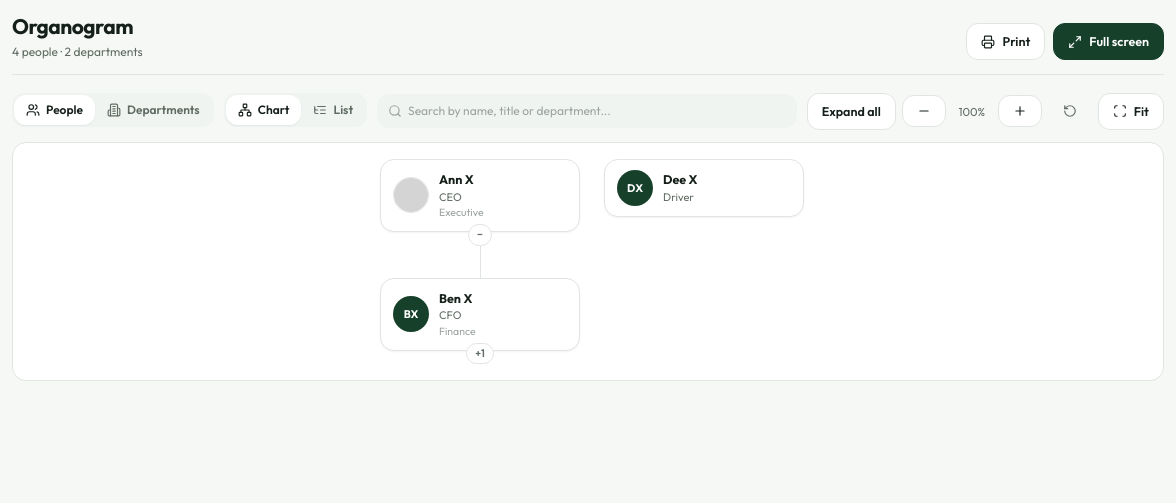
it: Organogram › draws who reports to whom, opening the first levels and leaving out people who have left
The width and height of the screenshot is (1176, 503).
# Ben's report opens on a click
Click the button named "Show 1 under Ben X" at (480, 353), box [466,342,494,364]
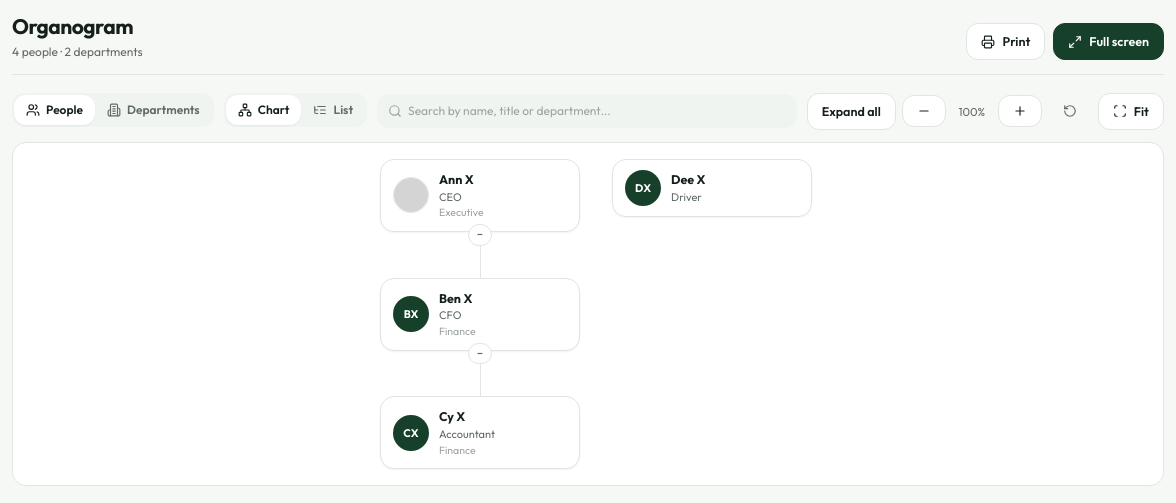
Now the text "Cy X" is shown, box [439,408,465,424]
Now the text "Accountant" is shown, box [439,426,495,442]
